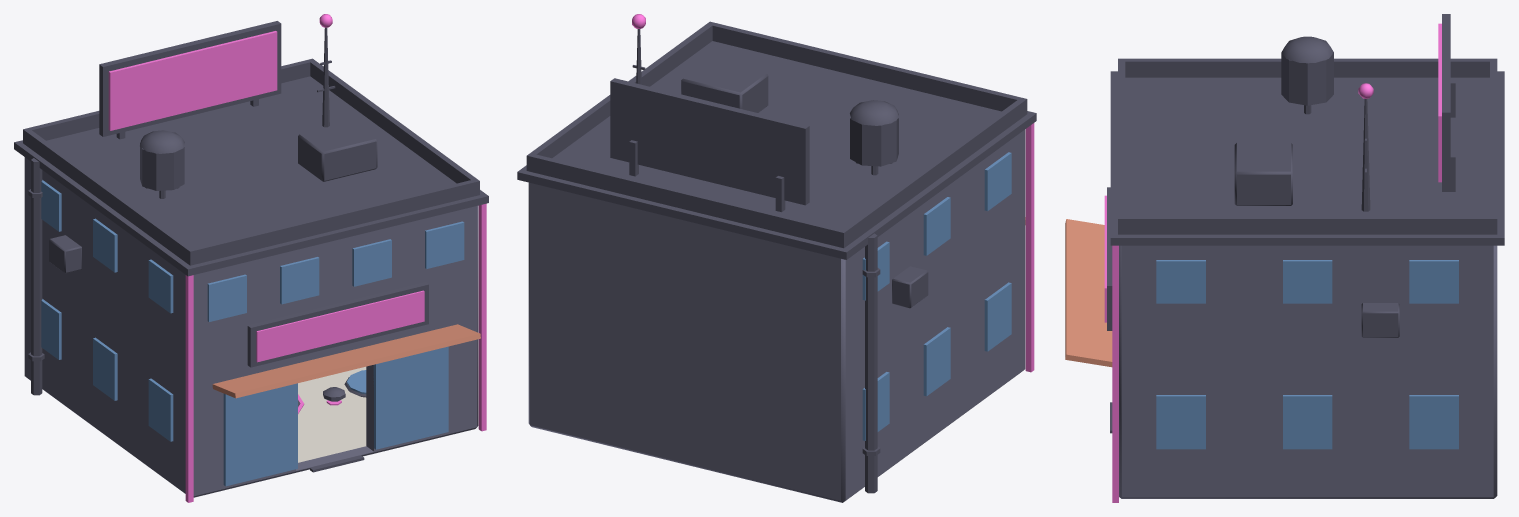
Rendered from VerticeCasa.fbx.
3 views of the same model, side by side, from view 1: azimuth 30°, elevation 25°; view 2: azimuth 150°, elevation 25°; view 3: azimuth 270°, elevation 25° (orthographic). The views are drawn at different scales.
Visible parts, largest first — view 1: VerticeCasa_Base_Metal, VerticeCasa_Base_Cuerpo, VerticeCasa_Base_Cristal, VerticeCasa_Base_Luz, VerticeCasa_Base_Toldo, VerticeCasa_Base_Forro; view 2: VerticeCasa_Base_Cuerpo, VerticeCasa_Base_Metal, VerticeCasa_Base_Cristal, VerticeCasa_Base_Luz; view 3: VerticeCasa_Base_Cuerpo, VerticeCasa_Base_Metal, VerticeCasa_Base_Cristal, VerticeCasa_Base_Toldo, VerticeCasa_Base_Luz.
Boxes of the visible parts, bbox=[...] form: VerticeCasa_Base_Metal: bbox=[14, 21, 488, 472]; VerticeCasa_Base_Cuerpo: bbox=[24, 157, 478, 497]; VerticeCasa_Base_Cristal: bbox=[41, 180, 464, 486]; VerticeCasa_Base_Luz: bbox=[108, 14, 486, 502]; VerticeCasa_Base_Toldo: bbox=[212, 324, 480, 398]; VerticeCasa_Base_Forro: bbox=[298, 366, 366, 462]; VerticeCasa_Base_Cuerpo: bbox=[528, 129, 1025, 502]; VerticeCasa_Base_Metal: bbox=[517, 21, 1036, 493]; VerticeCasa_Base_Cristal: bbox=[862, 152, 1011, 440]; VerticeCasa_Base_Luz: bbox=[632, 14, 1034, 372]; VerticeCasa_Base_Cuerpo: bbox=[1119, 245, 1497, 498]; VerticeCasa_Base_Metal: bbox=[1107, 14, 1504, 433]; VerticeCasa_Base_Cristal: bbox=[1156, 260, 1458, 449]; VerticeCasa_Base_Toldo: bbox=[1065, 219, 1112, 367]; VerticeCasa_Base_Luz: bbox=[1104, 23, 1441, 502].
Bounding box in the file's own units: 2920 × 2965 × 3011.
